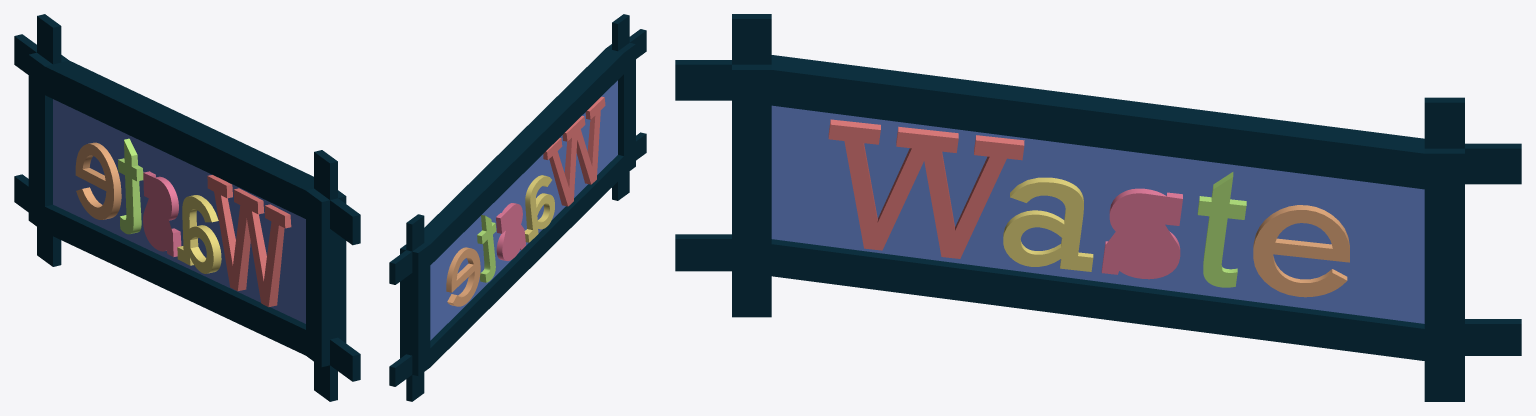
The model's file is text_waste.fbx.
The picture shows the model from 3 angles, left to right: view 1: azimuth 30°, elevation 25°; view 2: azimuth 150°, elevation 25°; view 3: azimuth 270°, elevation 25°; orthographic projection. The views are drawn at different scales.
Visible parts, largest first — view 1: How_to_play:sign_how2, polySurface1, polySurface5, polySurface3, polySurface2, polySurface4; view 2: How_to_play:sign_how2, polySurface1, polySurface5, polySurface3, polySurface2, polySurface4; view 3: How_to_play:sign_how2, polySurface1, polySurface3, polySurface5, polySurface2, polySurface4.
Boxes of the visible parts, x1=… form: How_to_play:sign_how2: x1=14, y1=14, x2=360, y2=401; polySurface1: x1=207, y1=175, x2=291, y2=307; polySurface5: x1=75, y1=142, x2=121, y2=219; polySurface3: x1=143, y1=171, x2=181, y2=256; polySurface2: x1=177, y1=195, x2=221, y2=273; polySurface4: x1=118, y1=138, x2=143, y2=234; How_to_play:sign_how2: x1=389, y1=14, x2=646, y2=401; polySurface1: x1=543, y1=96, x2=605, y2=206; polySurface5: x1=446, y1=247, x2=480, y2=306; polySurface3: x1=496, y1=203, x2=525, y2=260; polySurface2: x1=524, y1=175, x2=554, y2=242; polySurface4: x1=477, y1=215, x2=496, y2=282; How_to_play:sign_how2: x1=675, y1=14, x2=1521, y2=401; polySurface1: x1=828, y1=119, x2=1024, y2=258; polySurface3: x1=1101, y1=188, x2=1182, y2=279; polySurface5: x1=1253, y1=205, x2=1349, y2=297; polySurface2: x1=1003, y1=177, x2=1093, y2=271; polySurface4: x1=1197, y1=172, x2=1246, y2=287.
Bounding box in the file's own units: 0.2613 × 3.07 × 6.16.
